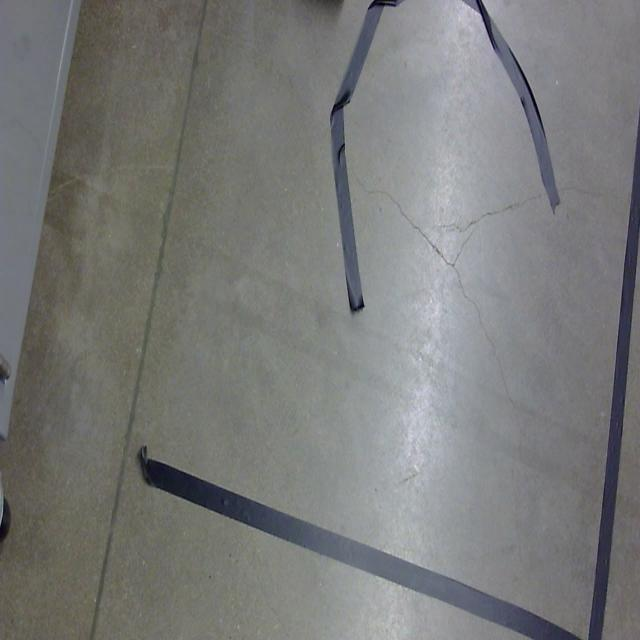tape: (138, 444, 588, 640), (321, 0, 420, 324), (586, 94, 640, 640), (459, 0, 564, 221)
